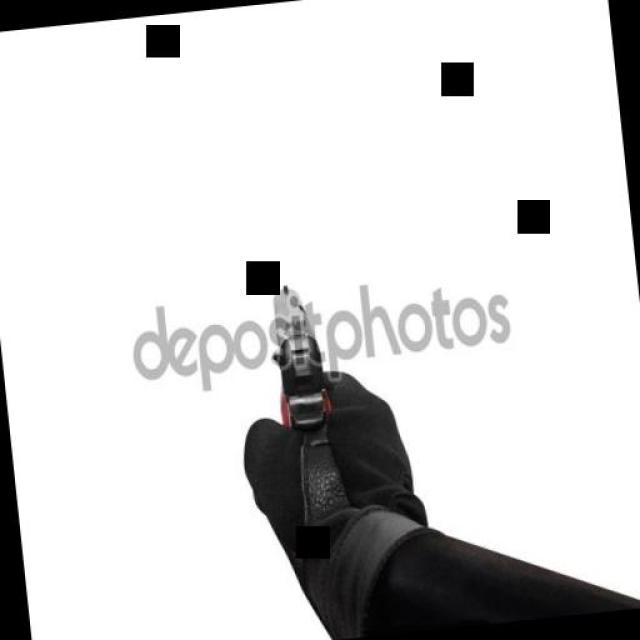gun: (262, 272, 342, 528)
